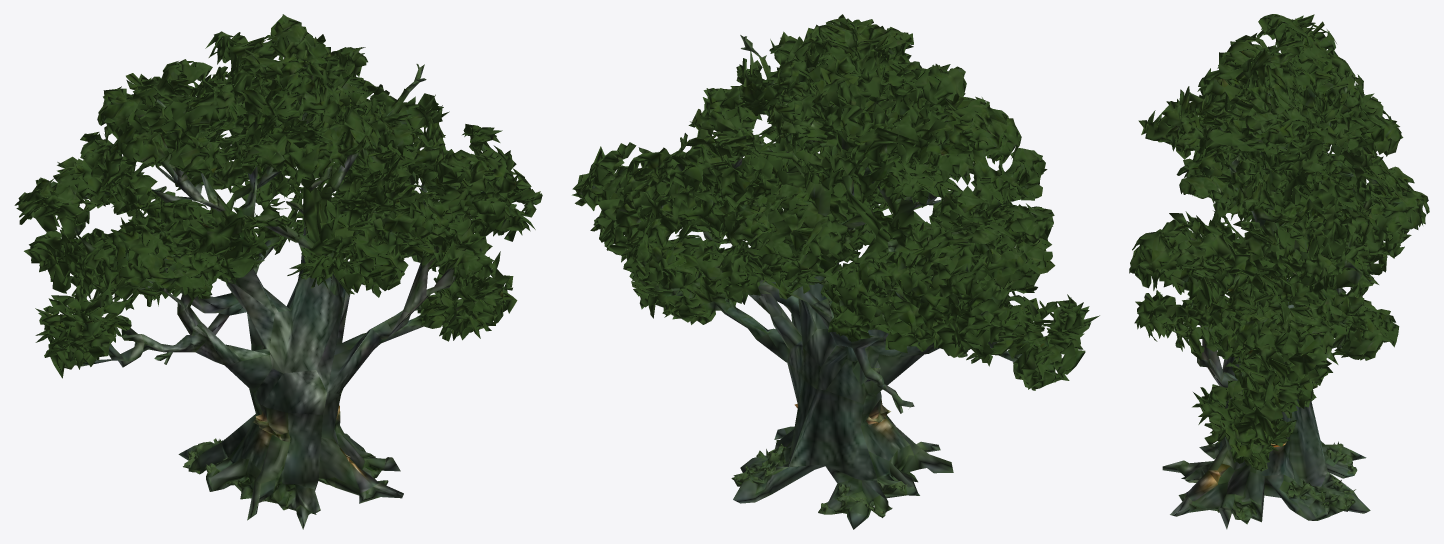
Rendered from oak_tree.glb.
3 renders of one model, left to right at view 1: azimuth 30°, elevation 25°; view 2: azimuth 150°, elevation 25°; view 3: azimuth 270°, elevation 25°, orthographic. The views are drawn at different scales.
Size of the model in its own units: 1.87 by 1.68 by 1.04.
Materials: 1 (1 with a texture image).
